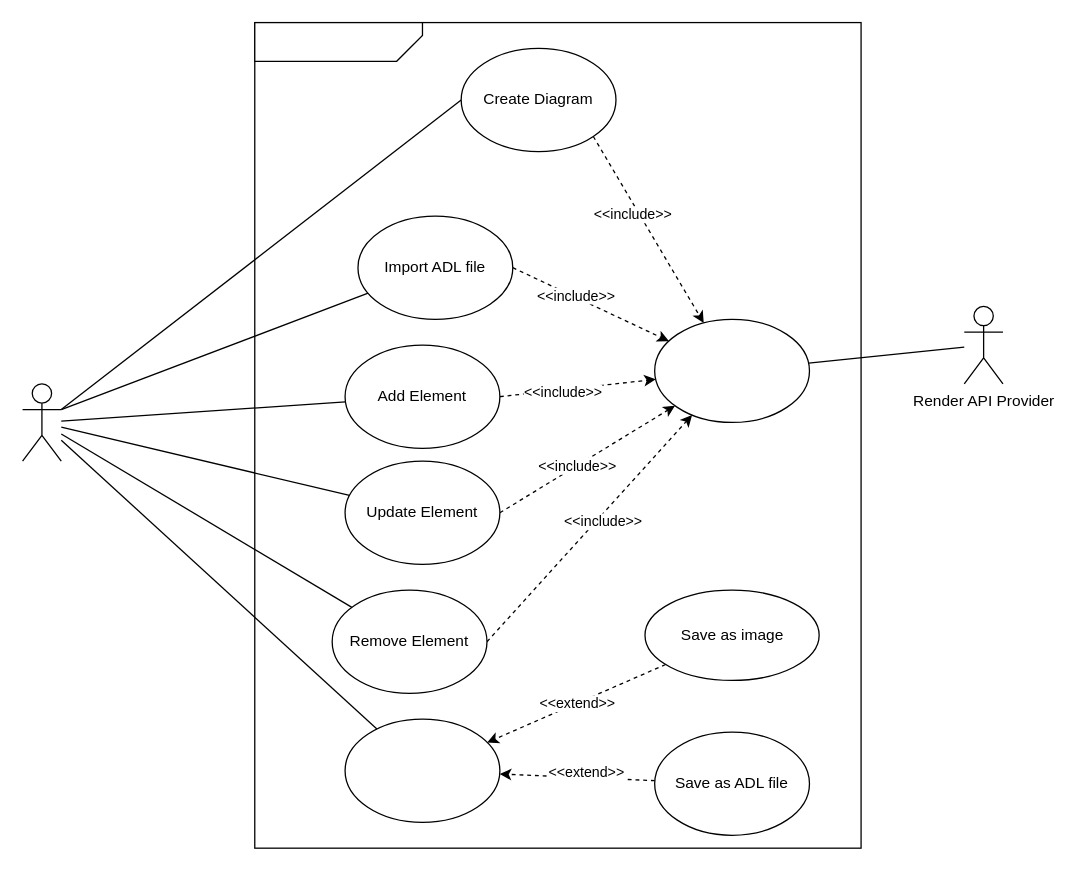
Some shapes in this 1076 by 871 pixel diagram are drawn without their labels. The shapes that lost their labels are listed below. From the top down, each one's box as (x1, y1, x2, y2) in pixels, then its label:
(253, 21, 422, 61): ADL Framework
(653, 318, 809, 422): Render Diagram
(21, 382, 61, 461): User
(344, 718, 500, 822): Save Diagram
